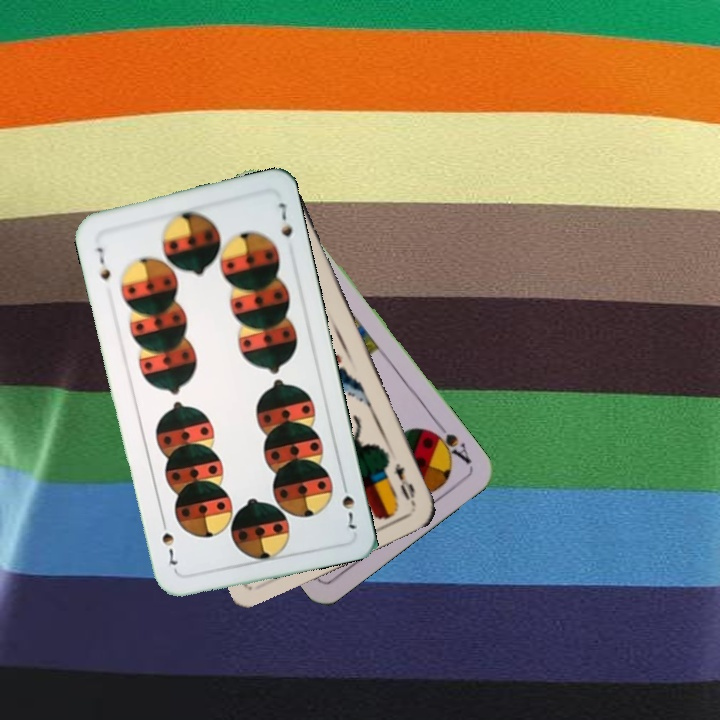EO: (390, 459, 419, 509)
S7: (337, 475, 360, 532), (92, 243, 114, 284)
SA: (424, 417, 475, 467)
